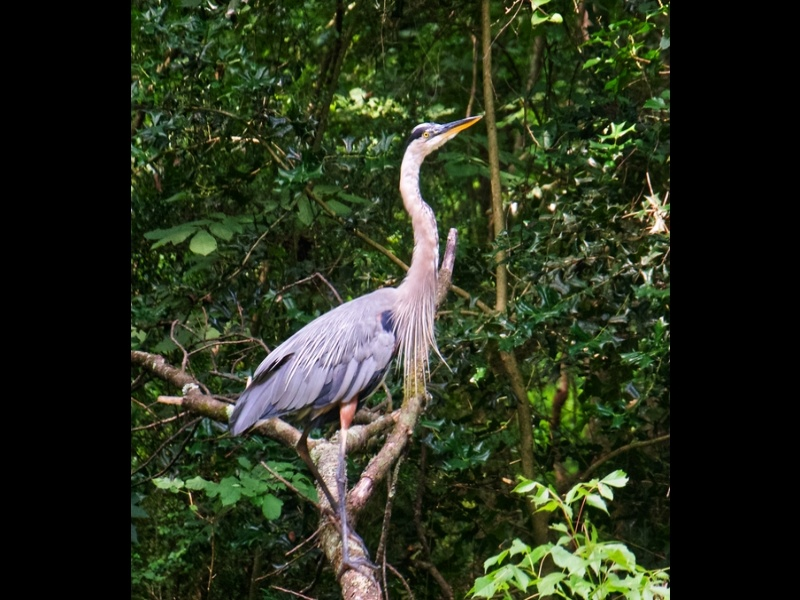heron: (215, 106, 491, 550)
